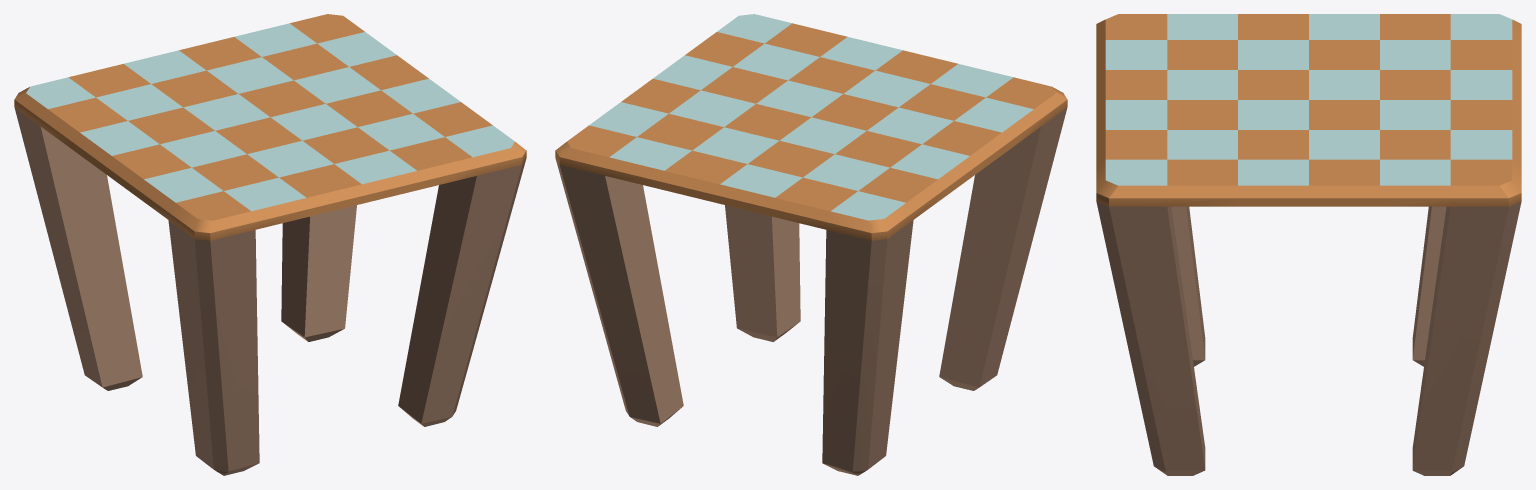
The model's file is TABLE1.fbx.
3 renders of one model, left to right at view 1: azimuth 30°, elevation 25°; view 2: azimuth 150°, elevation 25°; view 3: azimuth 270°, elevation 25°, orthographic. The views are drawn at different scales.
Parts seen in each view (by area): view 1: TABLE1; view 2: TABLE1; view 3: TABLE1.
Part boxes in pixels (x1,y1,x2,y2): TABLE1: [14, 14, 526, 475]; TABLE1: [555, 14, 1067, 475]; TABLE1: [1096, 14, 1521, 475].
Bounding box in the file's own units: 9.81 × 8.05 × 9.81.
